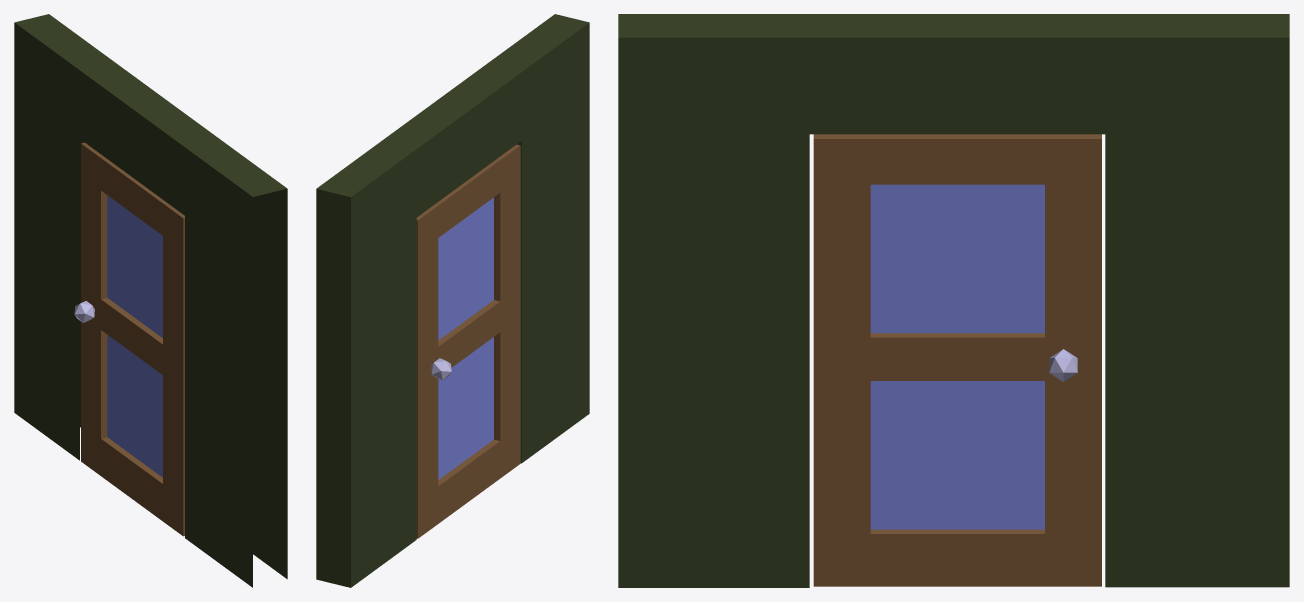
File: door.fbx
The picture shows the model from 3 angles, left to right: view 1: azimuth 30°, elevation 25°; view 2: azimuth 150°, elevation 25°; view 3: azimuth 270°, elevation 25°; orthographic projection. The views are drawn at different scales.
Parts seen in each view (by area): view 1: door_wall, door; view 2: door_wall, door; view 3: door_wall, door.
Part boxes in pixels (x1,y1,x2,y2): door_wall: (14, 14, 287, 587); door: (74, 142, 184, 536); door_wall: (316, 14, 589, 587); door: (416, 144, 520, 538); door_wall: (618, 14, 1289, 587); door: (813, 134, 1101, 586).
Bounding box in the file's own units: 185 × 924 × 1022.
